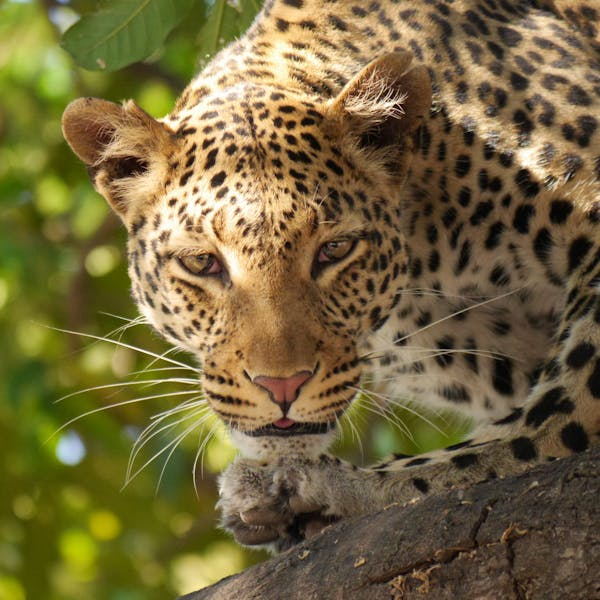Leopard: (61, 1, 600, 551)
